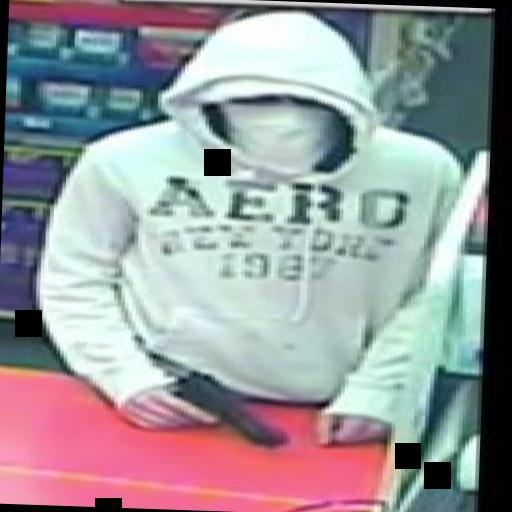Handgun: (142, 368, 286, 448)
